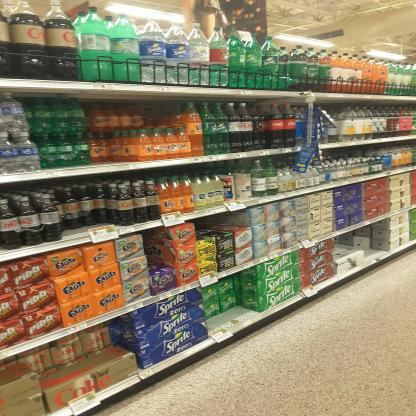empty_space: (335, 239, 391, 263)
